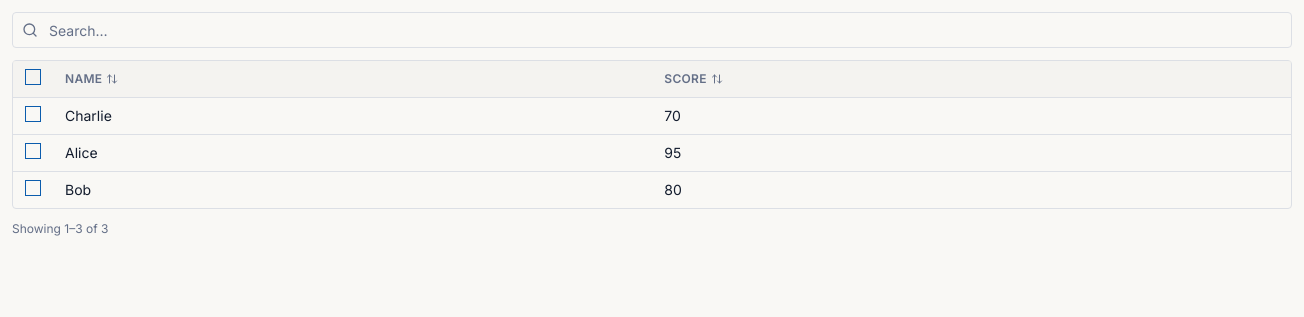
Scenario: DataTable › shows a bulk-action bar with the selection count
Click the checkbox named "Select row 1" at (33, 114), box [25,106,41,122]
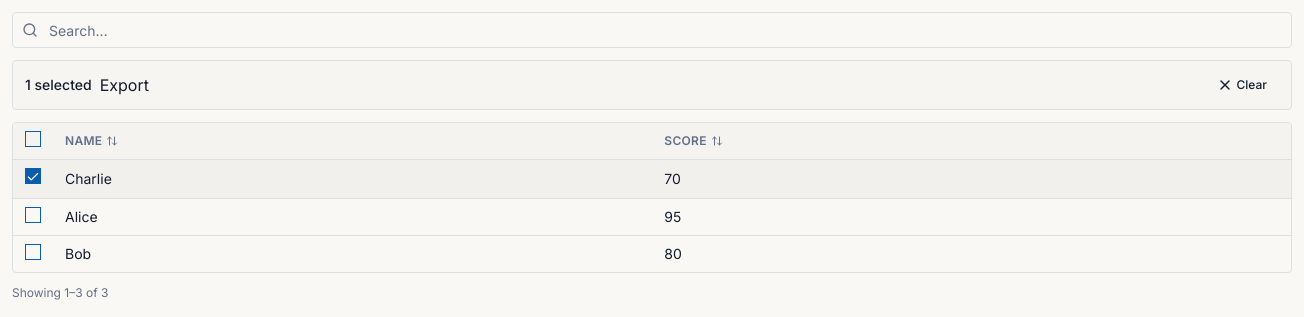
Result: the text "1 selected" is shown at [25,75,92,95]
Result: the button "Export" is shown at [100,73,149,97]
